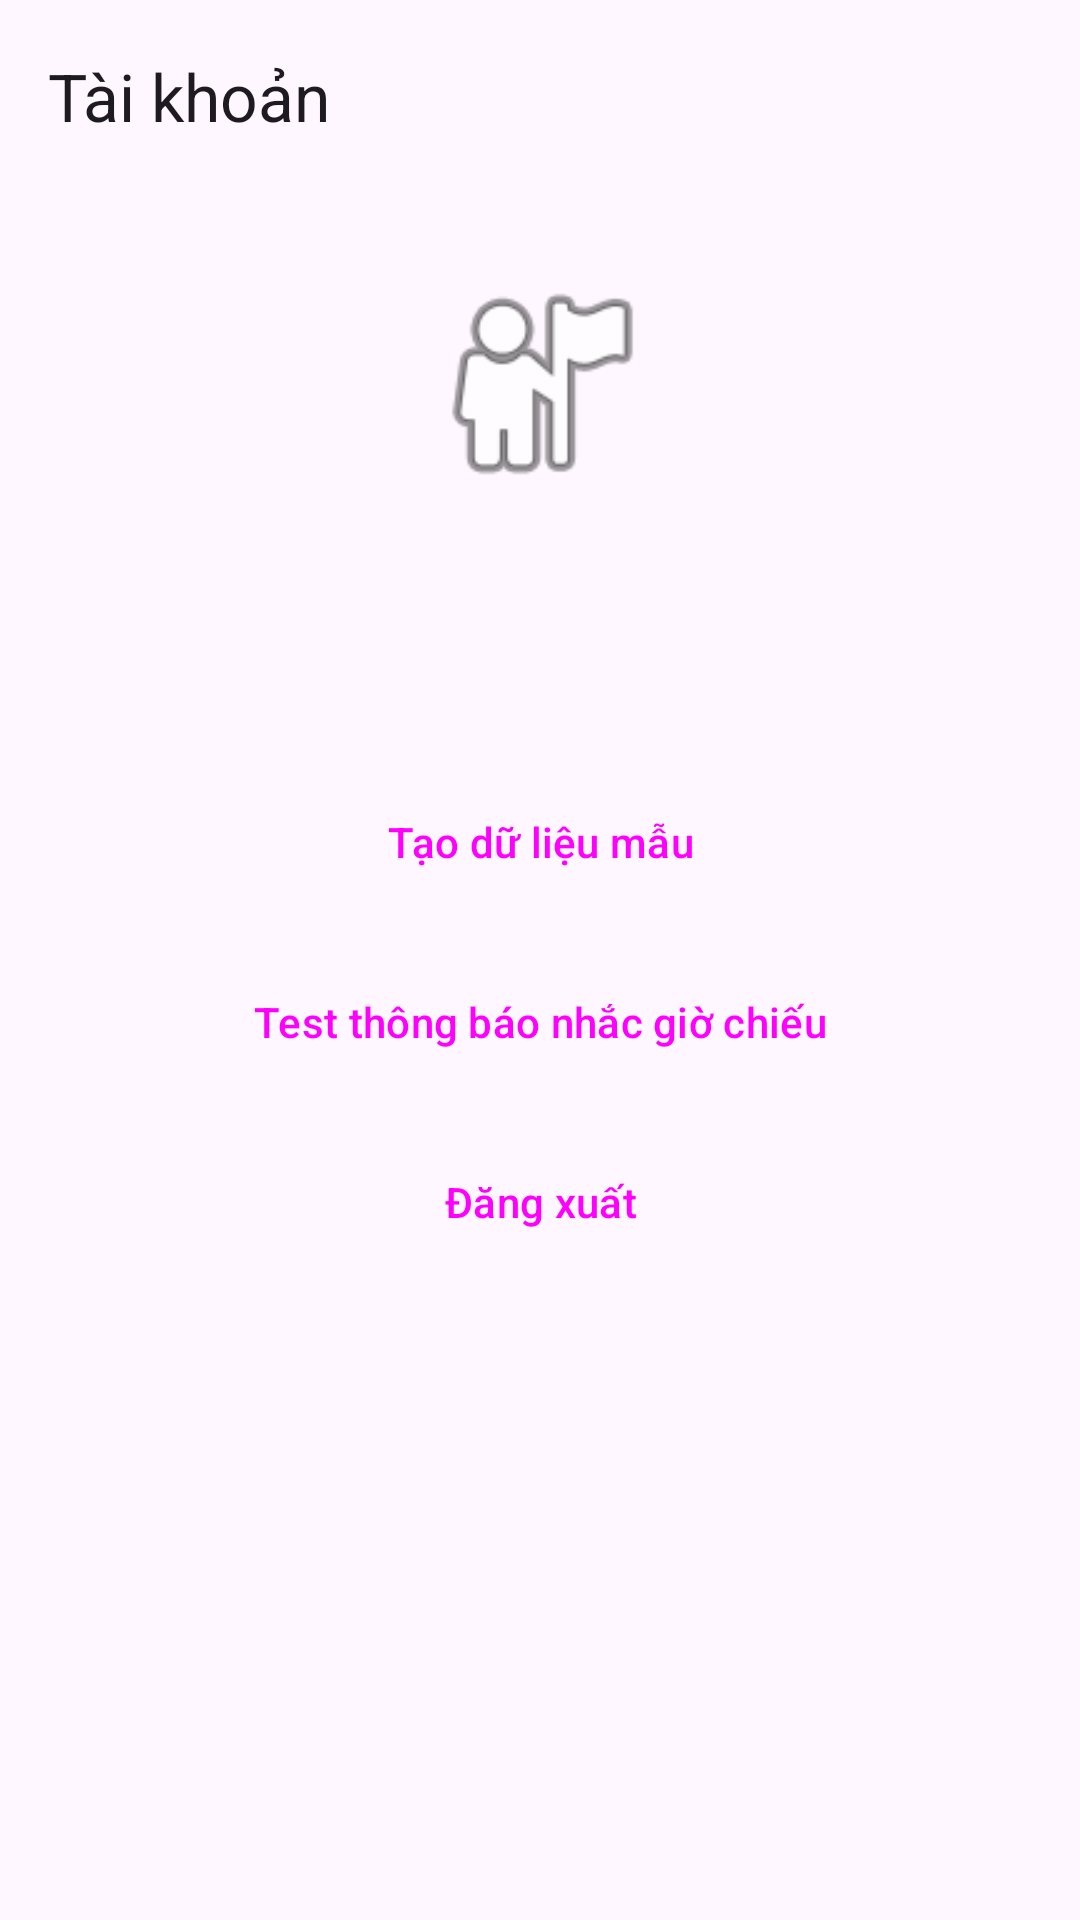

Screen size 1080 x 1920. Icon name, then its center in pixels as [x,y]:
Avatar: [542,384]
